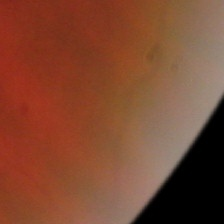MA: (19, 105, 30, 116)
